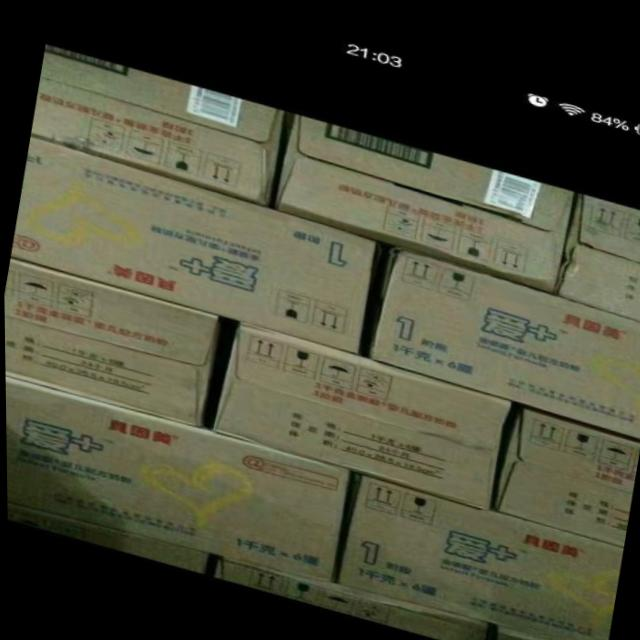box: (9, 134, 376, 346), (4, 376, 349, 576), (210, 316, 509, 500), (275, 107, 573, 282), (369, 237, 640, 425), (337, 465, 620, 640), (30, 43, 284, 201), (3, 257, 217, 424), (211, 550, 485, 640), (492, 396, 638, 533), (6, 503, 208, 568), (553, 180, 640, 307), (491, 615, 600, 640)
